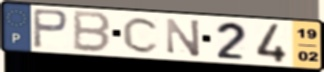2: (212, 19, 250, 62)
4: (254, 22, 290, 64)
B: (71, 9, 113, 55)
C: (121, 16, 162, 55)
N: (165, 17, 203, 59)
P: (31, 7, 71, 51)
